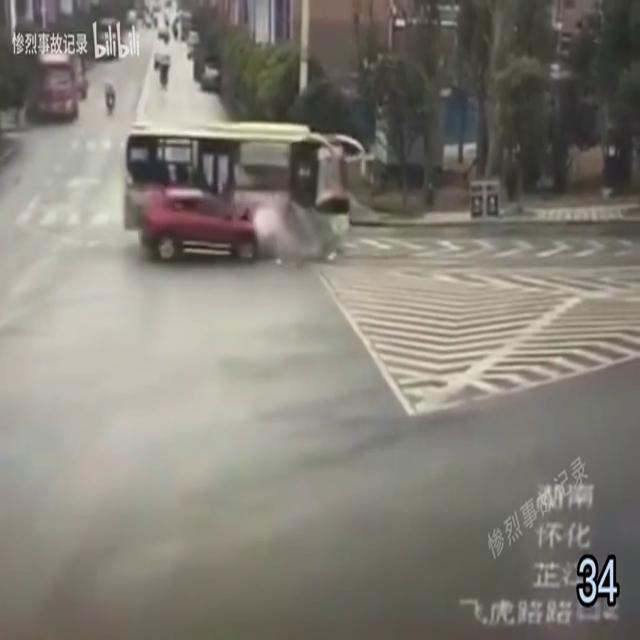multiple_accident: (77, 96, 384, 297)
